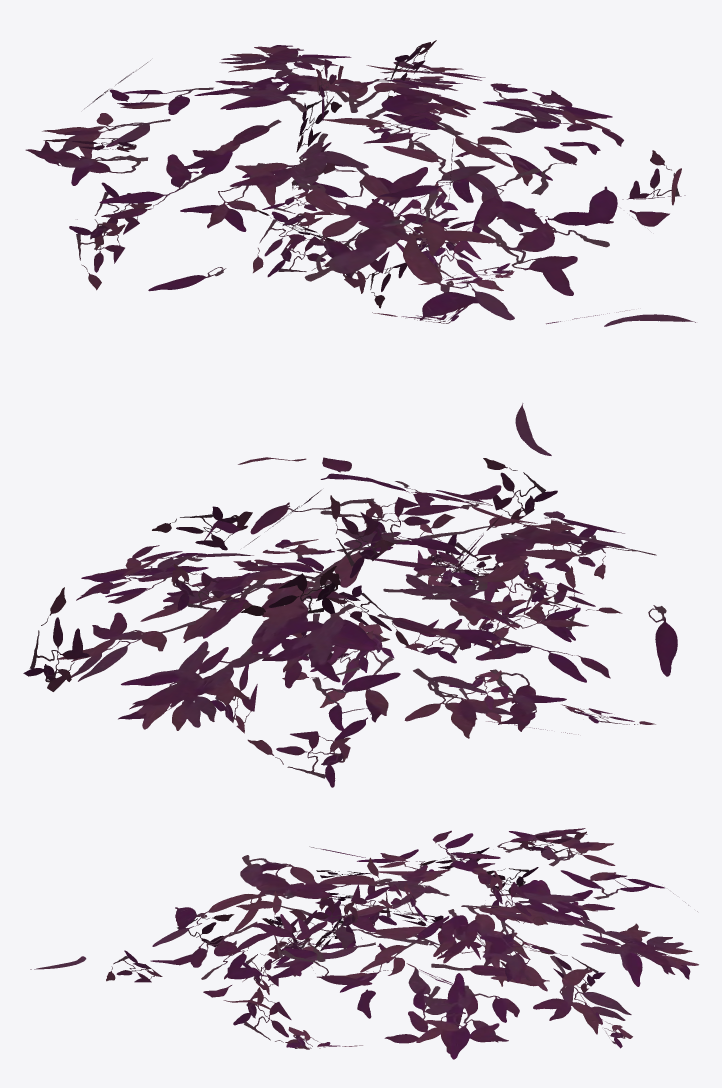
The picture shows the model from 3 angles, top to bottom: view 1: azimuth 30°, elevation 25°; view 2: azimuth 150°, elevation 25°; view 3: azimuth 270°, elevation 25°; orthographic projection. The views are drawn at different scales.
Parts seen in each view (by area): view 1: SM_GF_Leaf_Piles_02_LOD0; view 2: SM_GF_Leaf_Piles_02_LOD0; view 3: SM_GF_Leaf_Piles_02_LOD0.
Boxes of the visible parts, x1,y1,x2,y2 form: SM_GF_Leaf_Piles_02_LOD0: [25, 40, 695, 326]; SM_GF_Leaf_Piles_02_LOD0: [23, 403, 677, 787]; SM_GF_Leaf_Piles_02_LOD0: [30, 828, 698, 1059].
Size of the model in its own units: 1.13 by 0.3177 by 1.44.
Materials: 1 (1 with a texture image).
